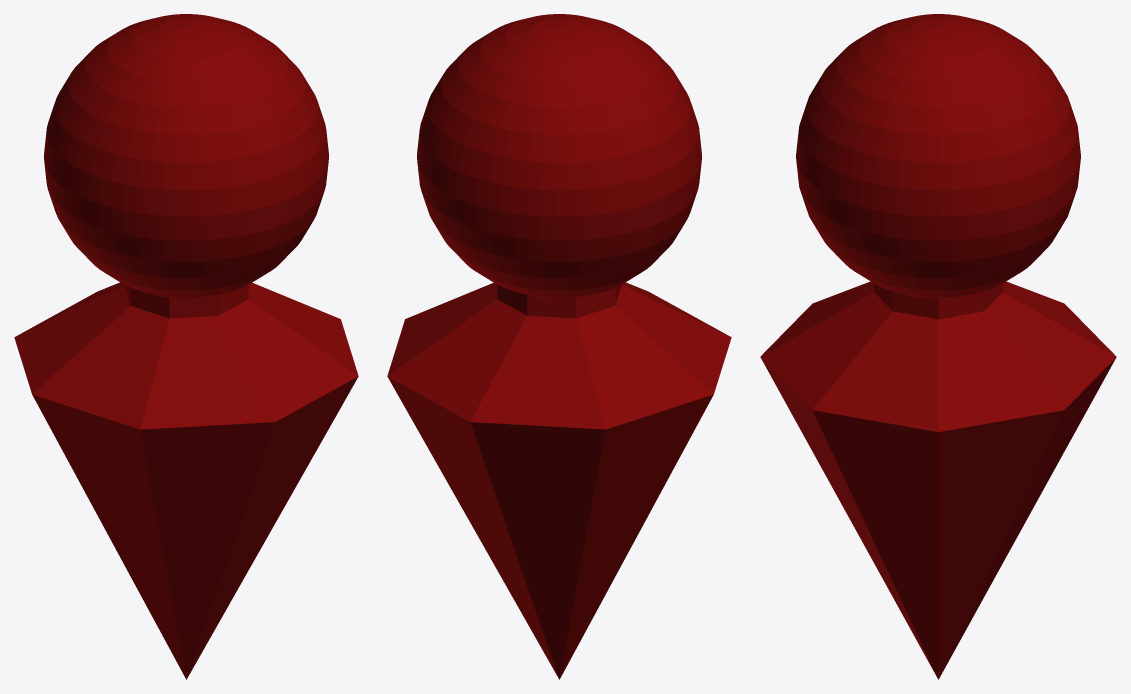
File: red-pawn.glb
3 renders of one model, left to right at view 1: azimuth 30°, elevation 25°; view 2: azimuth 150°, elevation 25°; view 3: azimuth 270°, elevation 25°, orthographic.
Visible parts, largest first — view 1: Pawn; view 2: Pawn; view 3: Pawn.
Part boxes in pixels (x1,y1,x2,y2): Pawn: [14, 14, 358, 679]; Pawn: [387, 14, 731, 679]; Pawn: [760, 14, 1116, 679].
Bounding box in the file's own units: 0.1 × 0.202 × 0.1.
